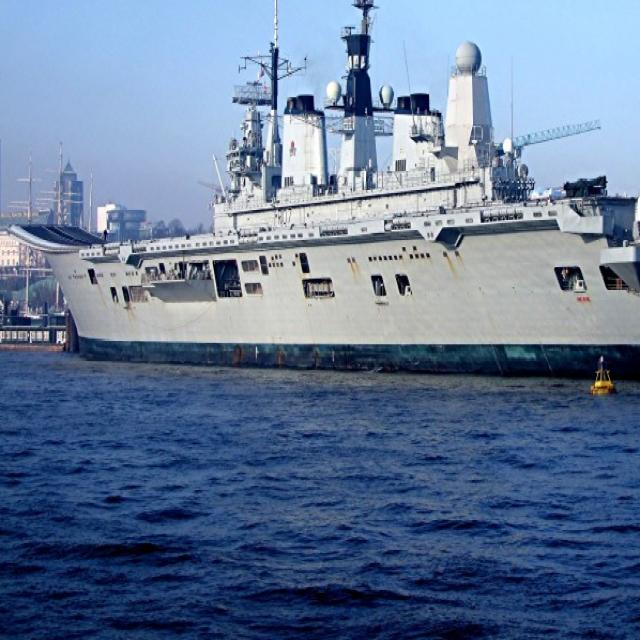Portanaves: (5, 1, 640, 378)
